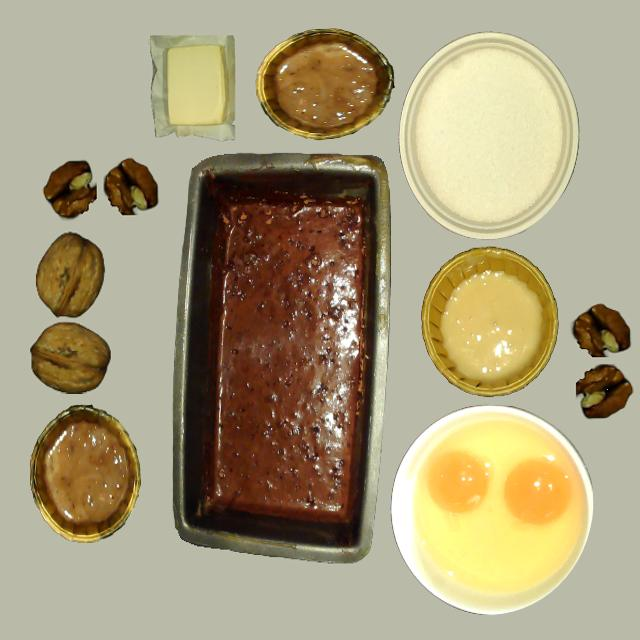Egg: (406, 416, 497, 524), (503, 458, 571, 526)
Sugar: (403, 28, 583, 227)
